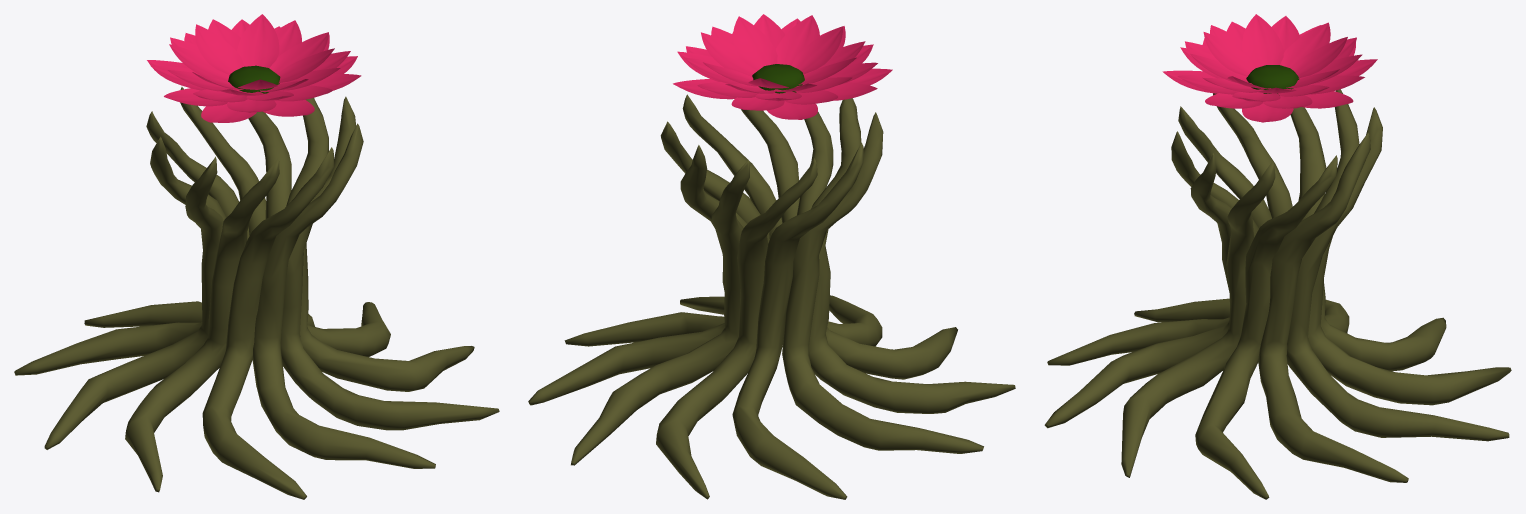
Rendered from PlantPinoState03.gltf.
3 views of the same model, side by side, from view 1: azimuth 30°, elevation 25°; view 2: azimuth 150°, elevation 25°; view 3: azimuth 270°, elevation 25° (orthographic).
Parts seen in each view (by area): view 1: Pino4, Flower.004, FlowerBase.003; view 2: Pino4, Flower.004, FlowerBase.003; view 3: Pino4, Flower.004, FlowerBase.003.
Boxes of the visible parts, <box> form: Pino4: <box>14,87,499,499</box>; Flower.004: <box>147,14,361,122</box>; FlowerBase.003: <box>228,65,280,93</box>; Pino4: <box>528,94,1015,499</box>; Flower.004: <box>673,14,892,119</box>; FlowerBase.003: <box>752,64,804,93</box>; Pino4: <box>1044,89,1511,499</box>; Flower.004: <box>1162,14,1377,122</box>; FlowerBase.003: <box>1246,65,1299,95</box>.
Bounding box in the file's own units: 2.03 × 1.63 × 1.96.
